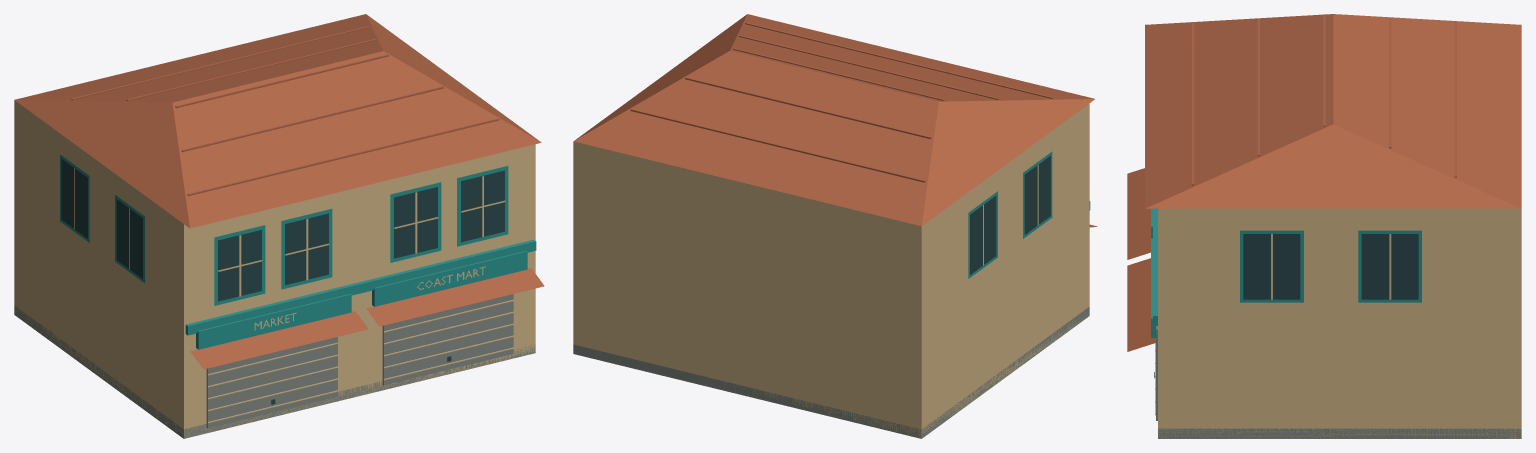
The model's file is KeralaShopRow_B.glb.
3 renders of one model, left to right at view 1: azimuth 30°, elevation 25°; view 2: azimuth 150°, elevation 25°; view 3: azimuth 270°, elevation 25°, orthographic. The views are drawn at different scales.
Parts seen in each view (by area): view 1: KeralaShopRow_B_Terracotta_Roof, KeralaShopRow_B_Warm_Lime_Plaster, KeralaShopRow_B_Stone_And_Metal, KeralaShopRow_B_Kerala_Teal_Trim, KeralaShopRow_B_Deep_Window_Glass; view 2: KeralaShopRow_B_Warm_Lime_Plaster, KeralaShopRow_B_Terracotta_Roof, KeralaShopRow_B_Stone_And_Metal, KeralaShopRow_B_Deep_Window_Glass, KeralaShopRow_B_Kerala_Teal_Trim; view 3: KeralaShopRow_B_Terracotta_Roof, KeralaShopRow_B_Warm_Lime_Plaster, KeralaShopRow_B_Deep_Window_Glass, KeralaShopRow_B_Stone_And_Metal, KeralaShopRow_B_Kerala_Teal_Trim.
Part boxes in pixels (bbox=[...]): KeralaShopRow_B_Terracotta_Roof: bbox=[14, 14, 544, 369]; KeralaShopRow_B_Warm_Lime_Plaster: bbox=[14, 100, 535, 438]; KeralaShopRow_B_Stone_And_Metal: bbox=[14, 294, 535, 438]; KeralaShopRow_B_Kerala_Teal_Trim: bbox=[60, 154, 536, 349]; KeralaShopRow_B_Deep_Window_Glass: bbox=[61, 158, 504, 404]; KeralaShopRow_B_Warm_Lime_Plaster: bbox=[573, 103, 1089, 438]; KeralaShopRow_B_Terracotta_Roof: bbox=[574, 14, 1097, 227]; KeralaShopRow_B_Stone_And_Metal: bbox=[573, 307, 1089, 438]; KeralaShopRow_B_Deep_Window_Glass: bbox=[970, 156, 1050, 274]; KeralaShopRow_B_Kerala_Teal_Trim: bbox=[968, 151, 1090, 278]; KeralaShopRow_B_Terracotta_Roof: bbox=[1127, 14, 1521, 351]; KeralaShopRow_B_Warm_Lime_Plaster: bbox=[1155, 208, 1521, 438]; KeralaShopRow_B_Deep_Window_Glass: bbox=[1154, 234, 1418, 378]; KeralaShopRow_B_Stone_And_Metal: bbox=[1156, 326, 1521, 438]; KeralaShopRow_B_Kerala_Teal_Trim: bbox=[1151, 208, 1421, 337].
Size of the model in its own units: 10 by 7 by 9.
